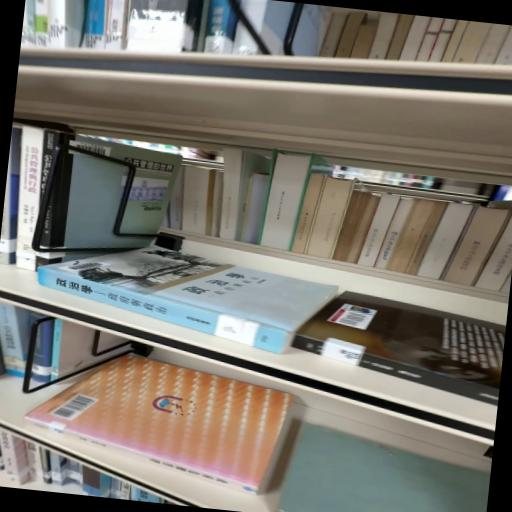flat: (26, 356, 295, 495), (38, 246, 339, 354), (293, 292, 507, 408), (278, 424, 490, 512)
